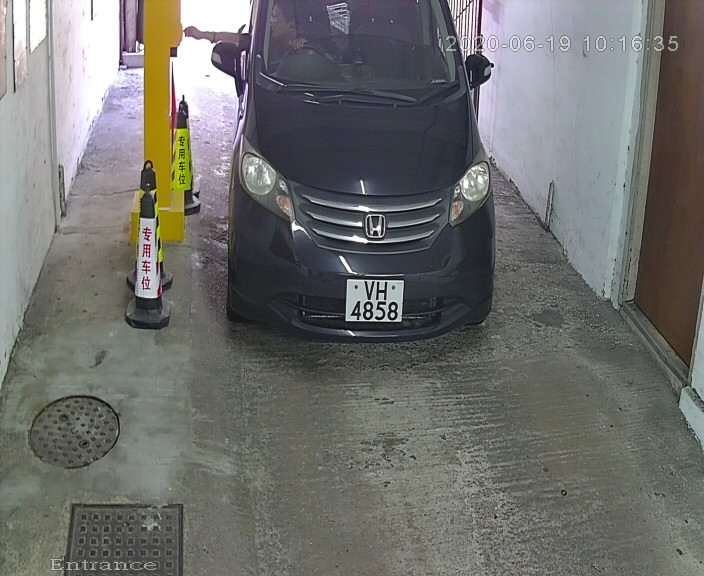privatecar: (171, 3, 522, 371)
